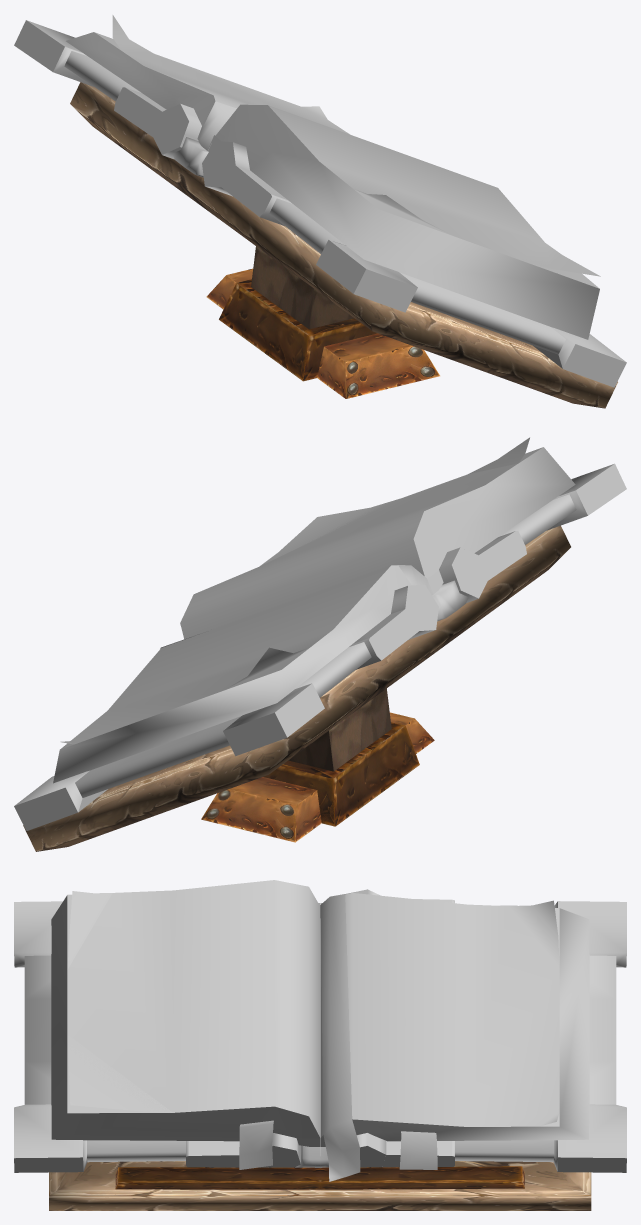
Rendered from book_dwarf_huge_open_01_lecturn.obj.
3 renders of one model, top to bottom at view 1: azimuth 30°, elevation 25°; view 2: azimuth 150°, elevation 25°; view 3: azimuth 270°, elevation 25°, orthographic. The views are drawn at different scales.
Visible parts, largest first — view 1: Geoset1, Geoset2, Geoset0; view 2: Geoset1, Geoset2, Geoset0; view 3: Geoset0, Geoset1, Geoset2.
Part boxes in pixels (<box>): Geoset1: <box>14,20,626,387</box>; Geoset2: <box>70,82,617,408</box>; Geoset0: <box>94,15,600,288</box>; Geoset1: <box>14,447,626,830</box>; Geoset2: <box>23,525,570,851</box>; Geoset0: <box>60,437,542,749</box>; Geoset0: <box>67,880,559,1181</box>; Geoset1: <box>14,889,626,1172</box>; Geoset2: <box>49,1161,591,1210</box>.
Size of the model in its own units: 2.88 by 2.56 by 5.86.
